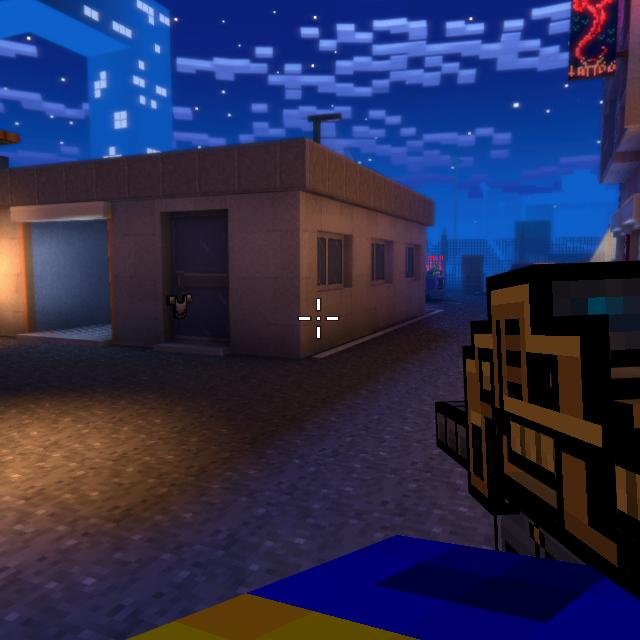Enemy: (429, 262, 444, 278)
